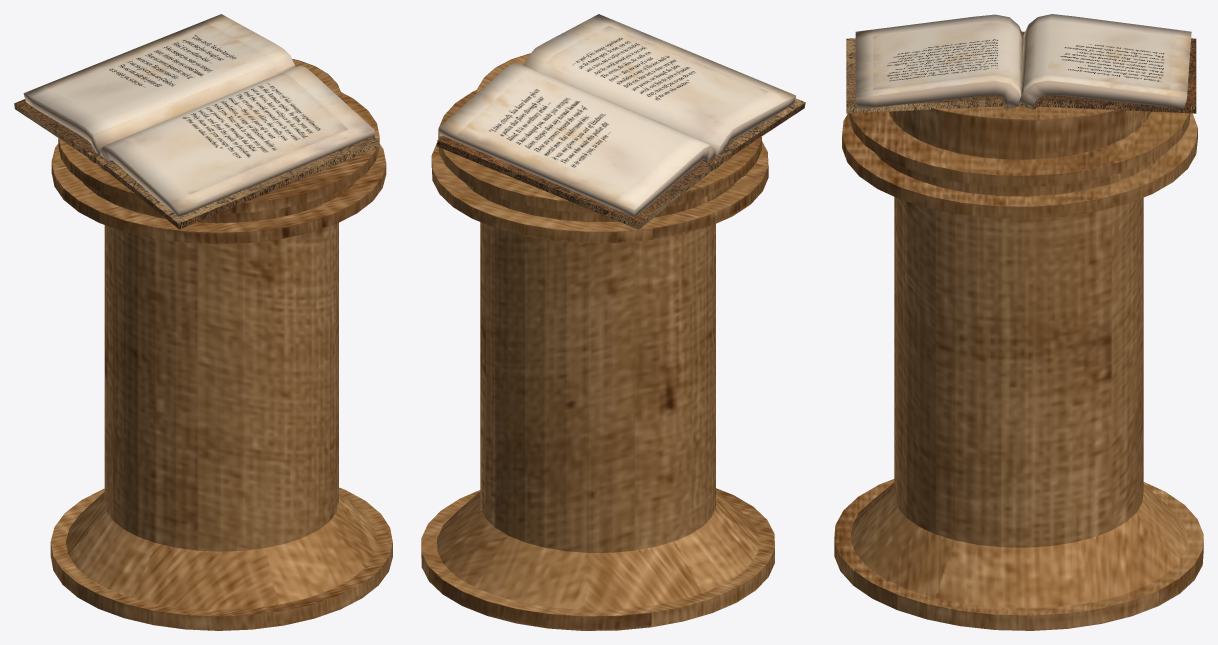
Rendered from podium final.fbx.
3 views of the same model, side by side, from view 1: azimuth 30°, elevation 25°; view 2: azimuth 150°, elevation 25°; view 3: azimuth 270°, elevation 25° (orthographic). The views are drawn at different scales.
Visible parts, largest first — view 1: Cube.004, Cube.003, Cube.002; view 2: Cube.004, Cube.003, Cube.002; view 3: Cube.004, Cube.003, Cube.002.
Boxes of the visible parts, left/top/right/bottom form: Cube.004: left=50, top=59, right=392, bottom=630; Cube.003: left=23, top=14, right=374, bottom=216; Cube.002: left=14, top=99, right=379, bottom=229; Cube.004: left=421, top=53, right=774, bottom=630; Cube.003: left=439, top=14, right=795, bottom=217; Cube.002: left=436, top=98, right=805, bottom=229; Cube.004: left=834, top=31, right=1203, bottom=630; Cube.003: left=855, top=14, right=1191, bottom=108; Cube.002: left=846, top=31, right=1196, bottom=113.
Size of the model in its own units: 296 by 452 by 296.
